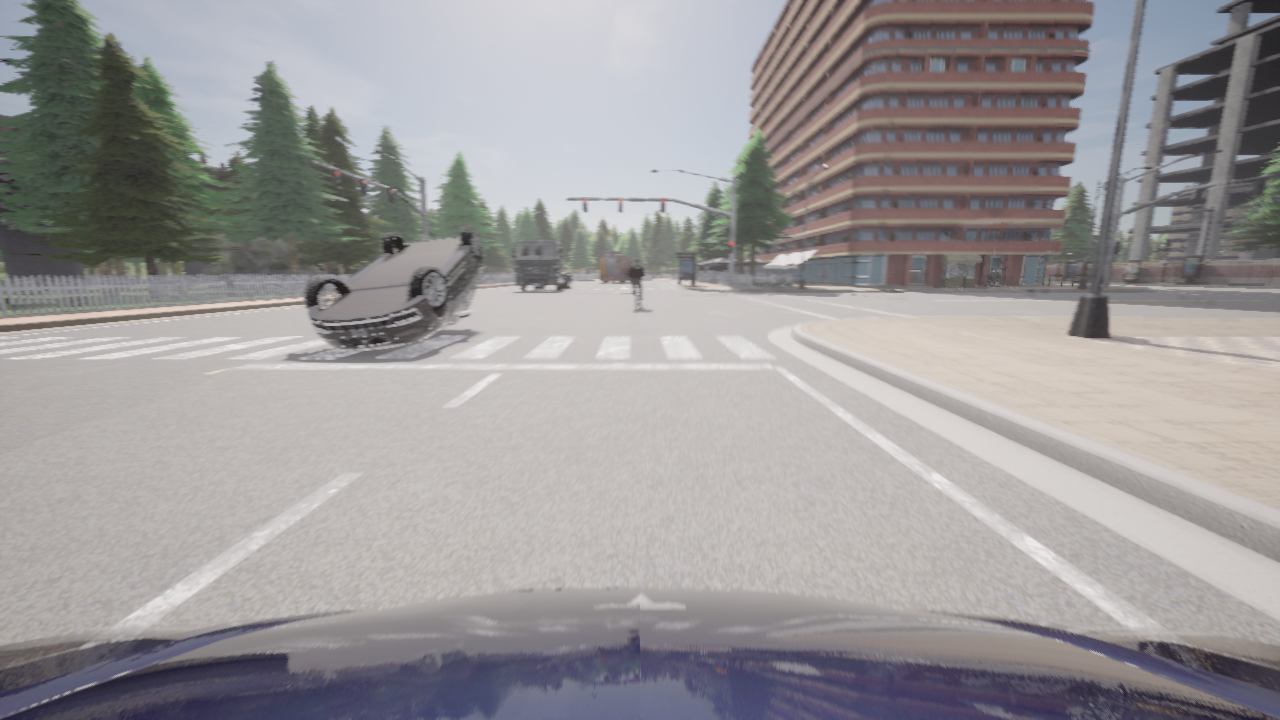cyclist: (0, 588, 1279, 719), (304, 225, 483, 350), (511, 240, 572, 290), (600, 251, 634, 282), (633, 286, 641, 308)
